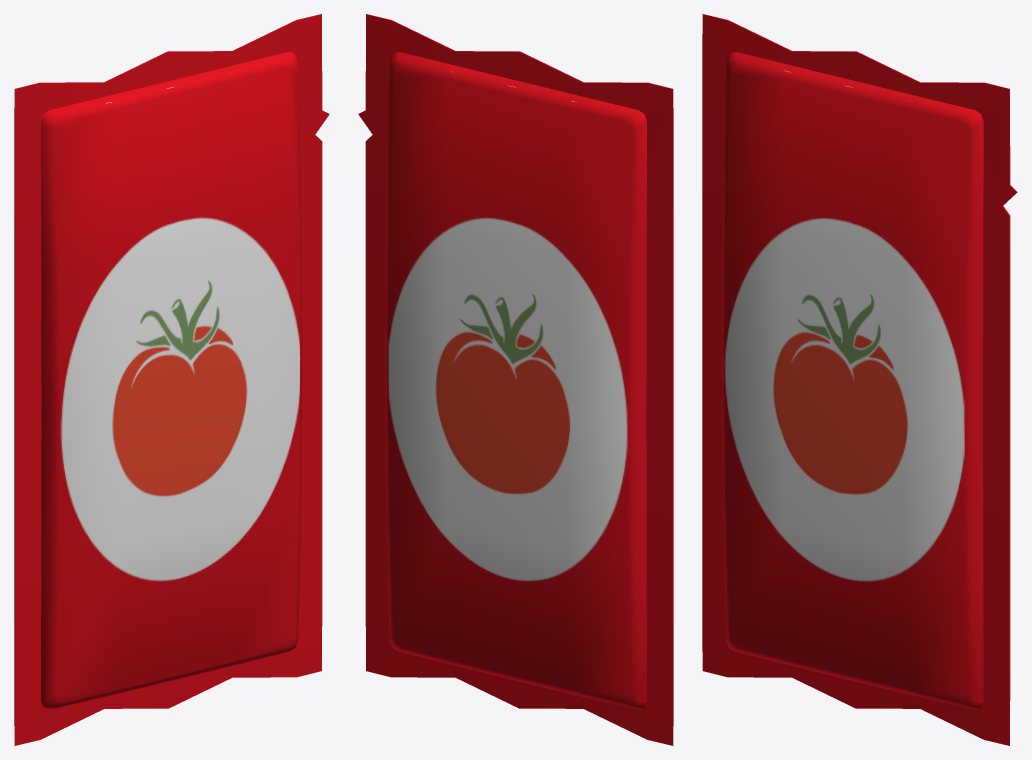
The model's file is KetchupPacket.fbx.
The picture shows the model from 3 angles, left to right: view 1: azimuth 30°, elevation 25°; view 2: azimuth 150°, elevation 25°; view 3: azimuth 330°, elevation 25°; orthographic projection.
Visible parts, largest first — view 1: Ketchup; view 2: Ketchup; view 3: Ketchup.
Boxes of the visible parts, bbox=[...] form: Ketchup: bbox=[14, 14, 329, 745]; Ketchup: bbox=[358, 14, 673, 745]; Ketchup: bbox=[702, 14, 1017, 745].
Bounding box in the file's own units: 4.01 × 8 × 0.6495.
